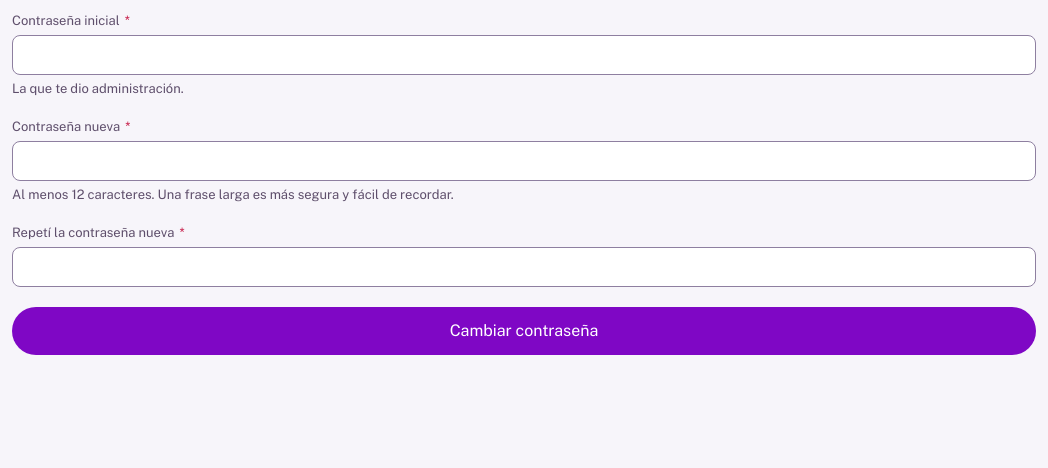
ChangePasswordForm › envía los campos y el destino; los errores salen junto al campo y la alerta general
Step 1. Type "inicial" into the password field labelled "Contraseña inicial*" → (524, 55), box [12,35,1036,75]
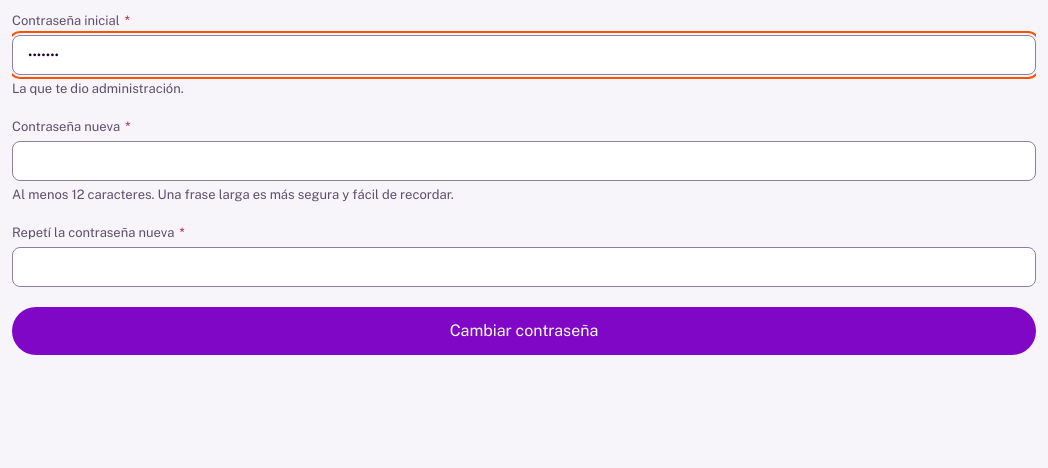
Step 2. Type "corta" into the password field labelled "Contraseña nueva*" → (524, 161), box [12,141,1036,181]
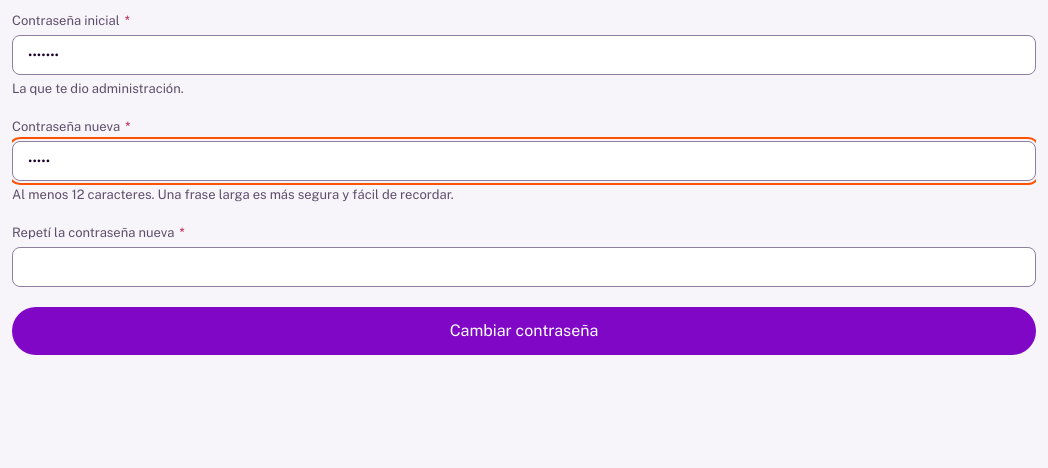
Step 3. Type "corta" into the password field labelled "Repetí la contraseña nueva*" → (524, 267), box [12,247,1036,287]
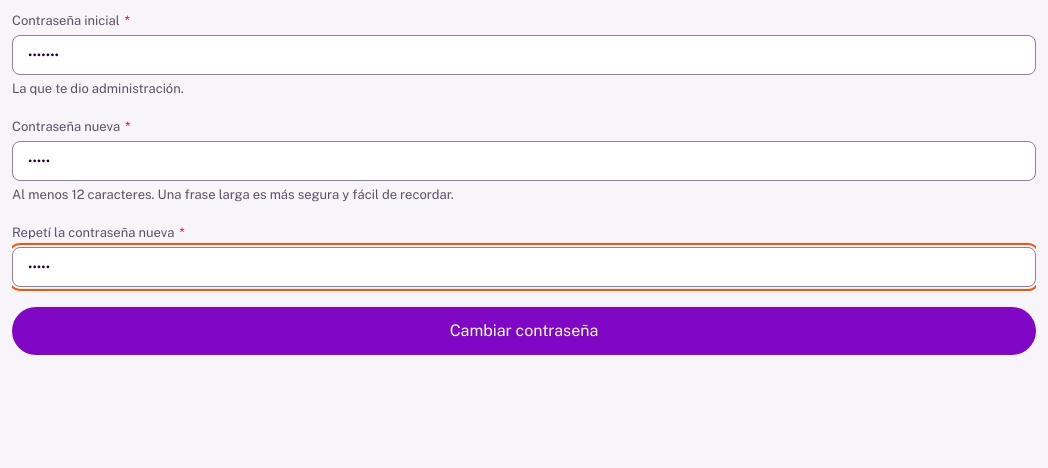
Step 4. Click the button "Cambiar contraseña" → (524, 331), box [12,307,1036,355]
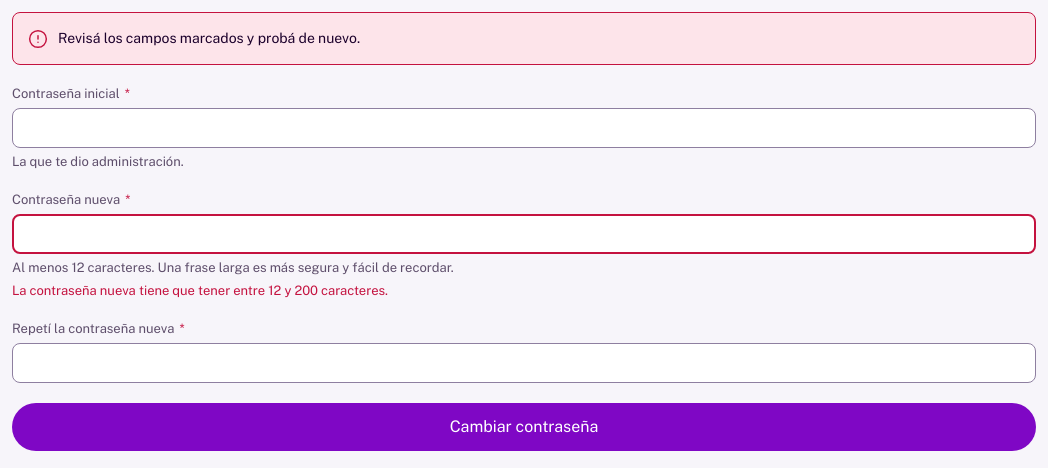
Now the text "La contraseña nueva tiene que tener entre 12 y 200 caracteres." is shown, box [12,283,388,298]
Now the text "Revisá los campos marcados y probá de nuevo." is shown, box [58,28,360,48]
